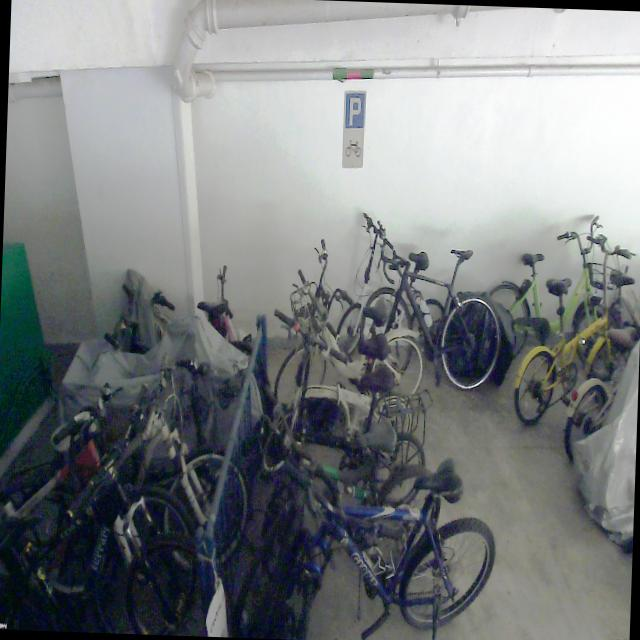bike: (18, 350, 252, 582), (0, 377, 205, 630), (230, 447, 497, 640), (259, 393, 446, 566), (274, 234, 428, 406), (262, 306, 416, 476), (512, 229, 640, 427), (482, 208, 623, 380), (356, 235, 504, 390), (336, 210, 451, 360)
